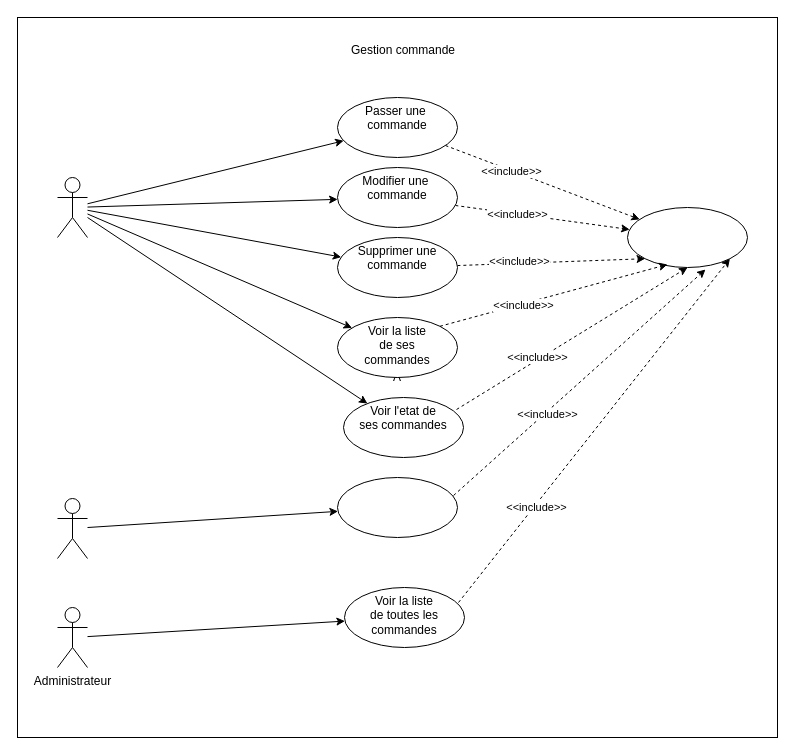
Image size: 795x755. Some labels were removed from this diagram. The box of each missing label's shape, as (x1, y1, x2, y2) in pixels:
Client: (56, 176, 88, 238)
Mettre a jour l'etat d'une commande: (336, 476, 458, 538)
S'authentifier: (626, 206, 748, 268)
Vendeur: (56, 498, 88, 558)
